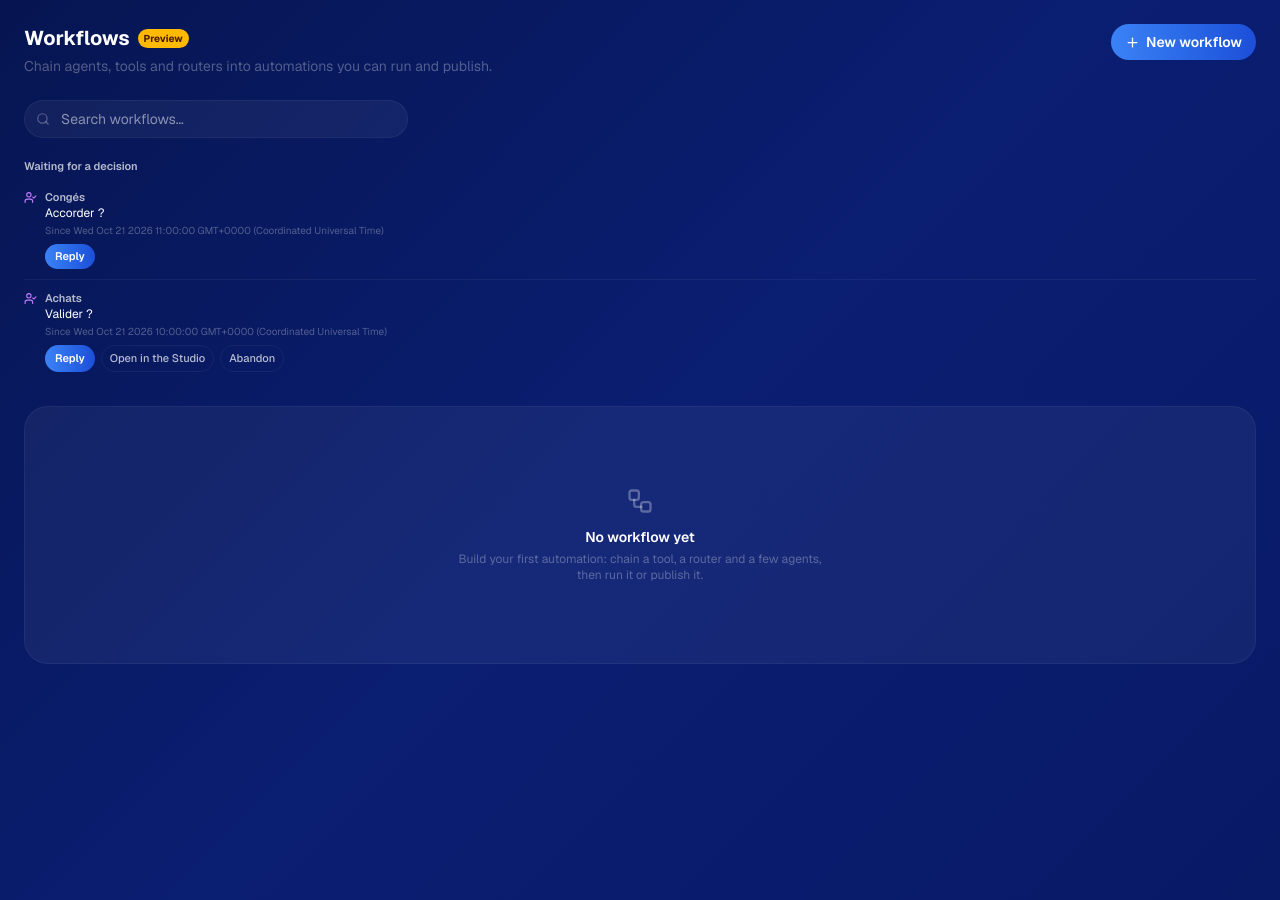
Test case: WorkflowsPage - answering a decision › words a failure of the rest of the run, and a cancellation
Click the button "Reply" below "Accorder ?". click: click(70, 256)
box: [45,244,95,268]
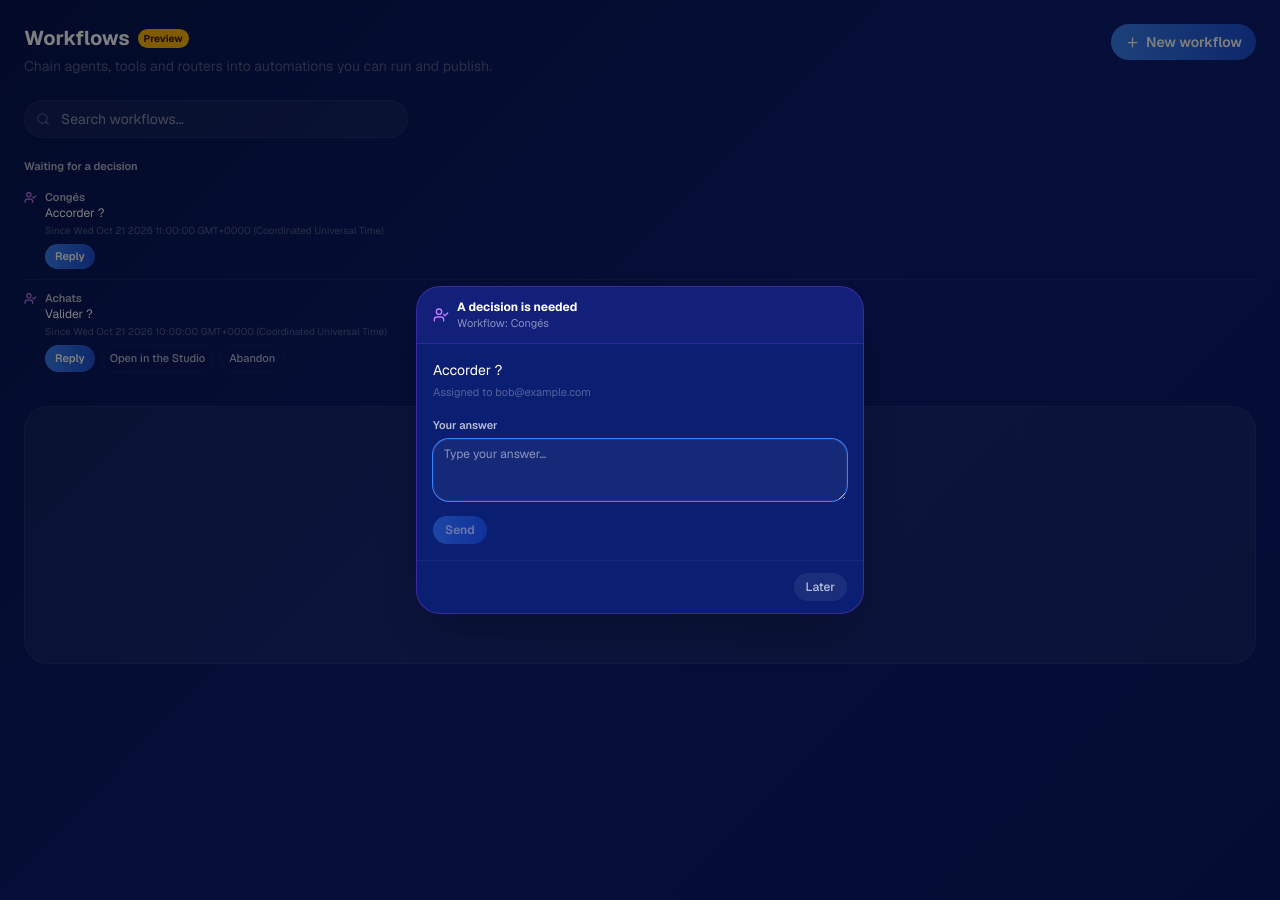
Type "x" into the text box. click: (640, 470)
box: [433,439,847,501]
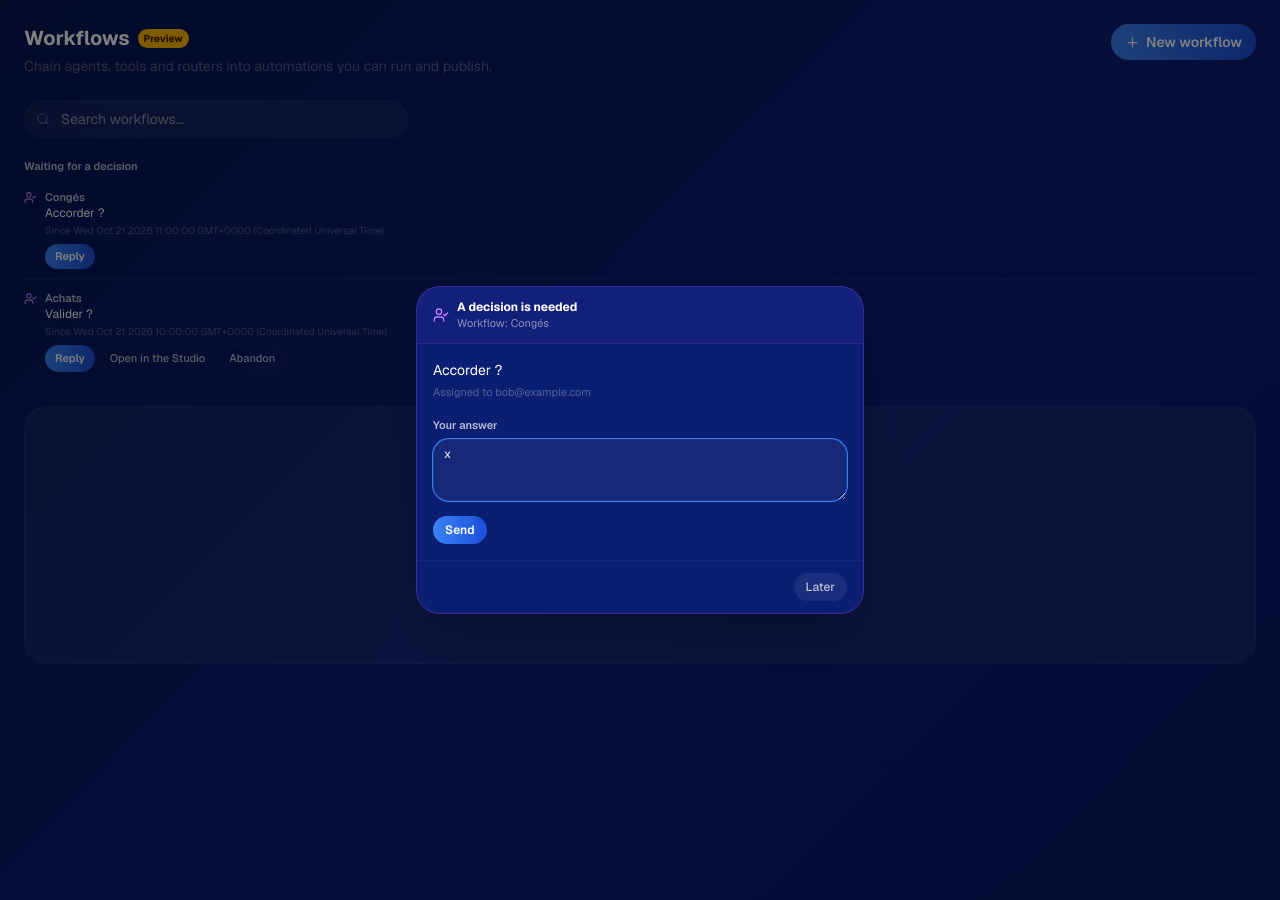
Click the button "Send". click: click(460, 530)
box: [433,516,487,544]
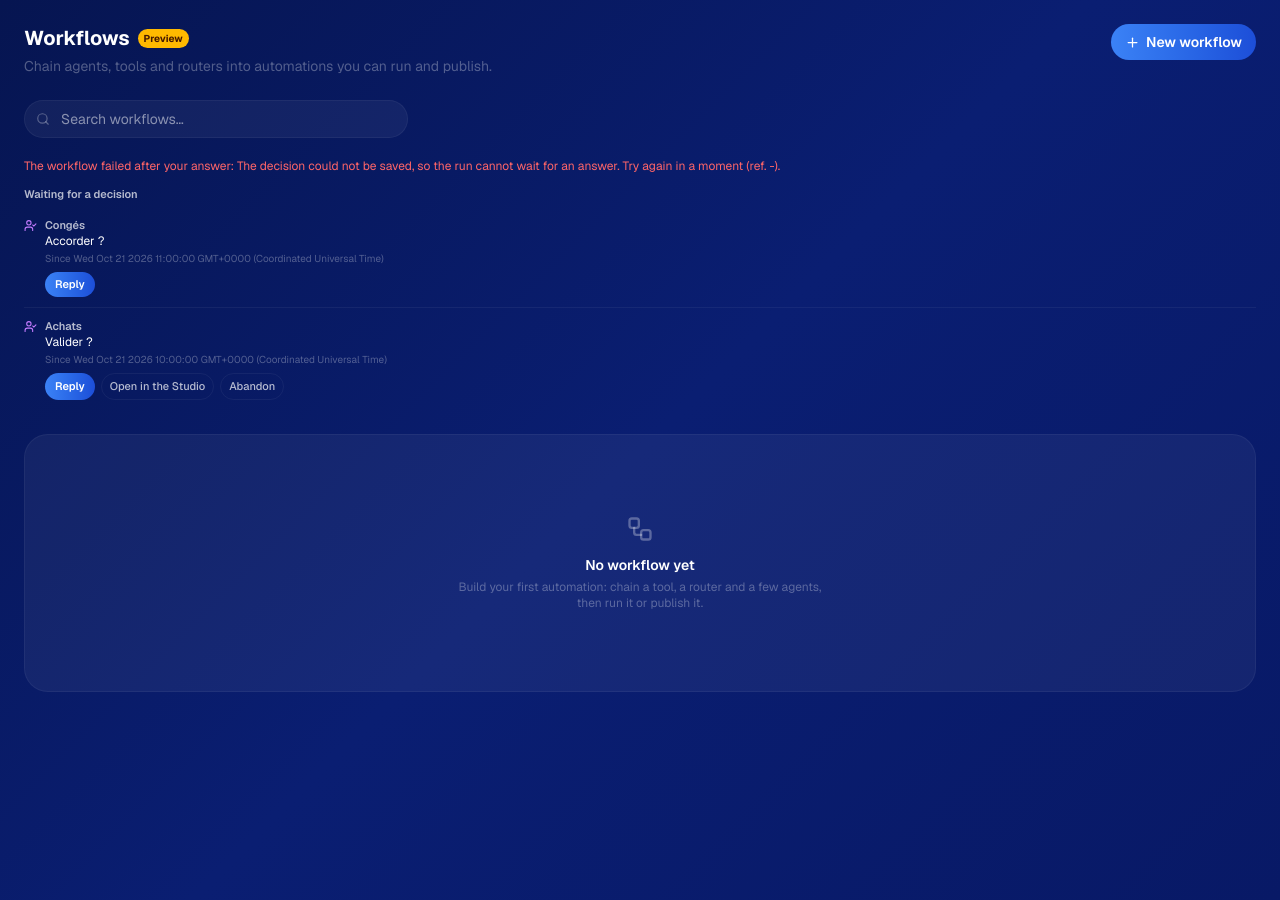
Click the button "Reply" below "Accorder ?". click: click(70, 284)
box: [45,272,95,296]
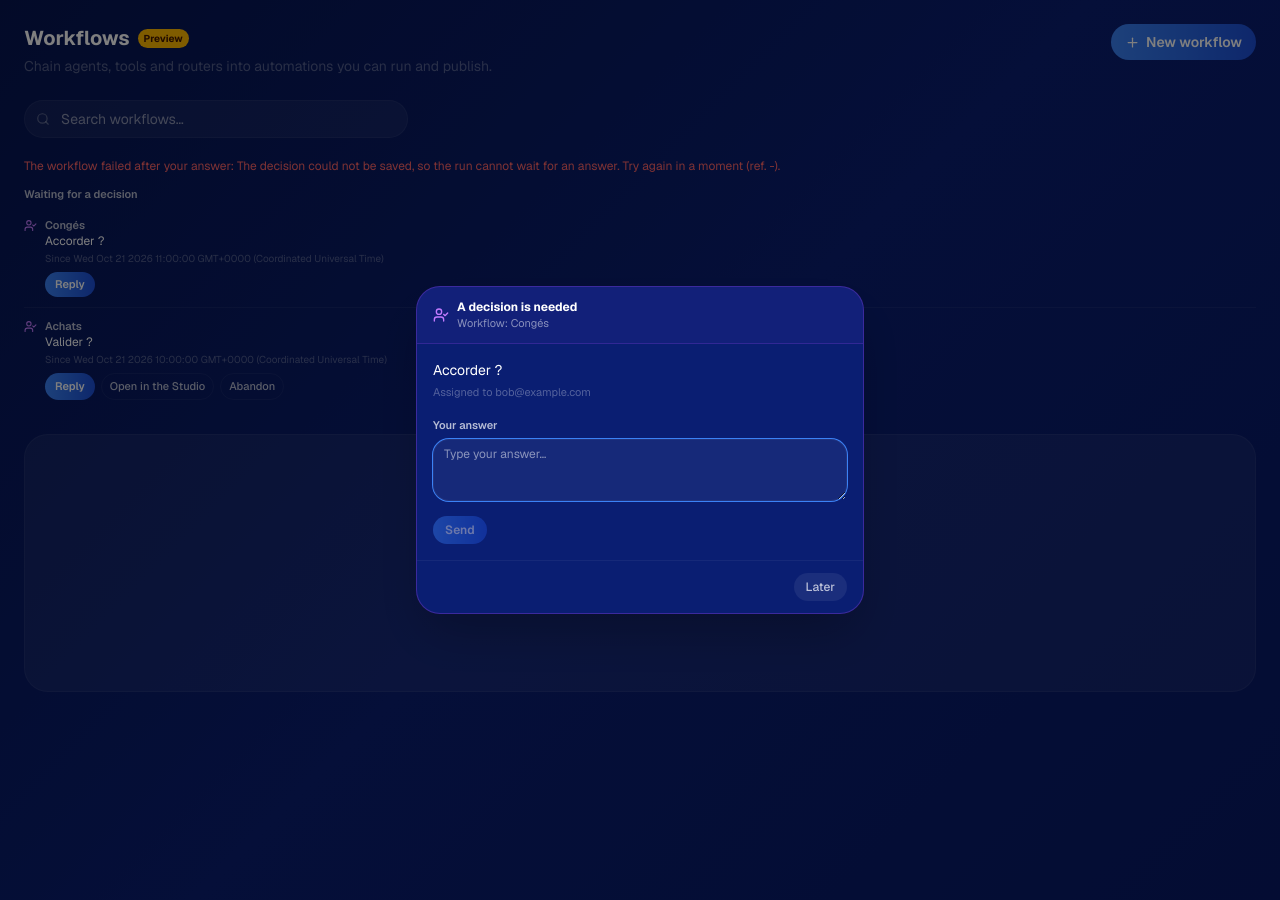
Type "y" into the text box. click: (640, 470)
box: [433,439,847,501]
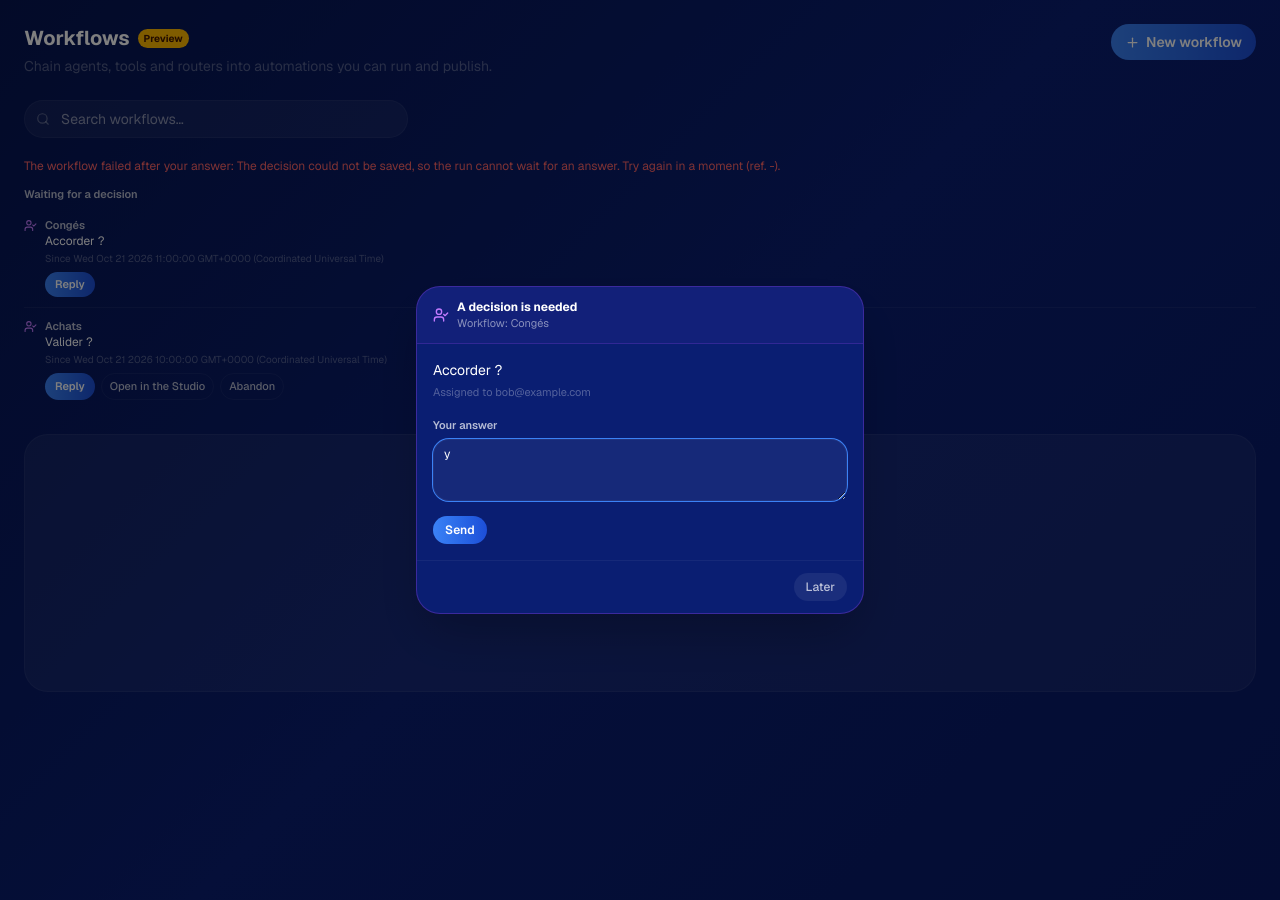
Click the button "Send". click: click(460, 530)
box: [433,516,487,544]
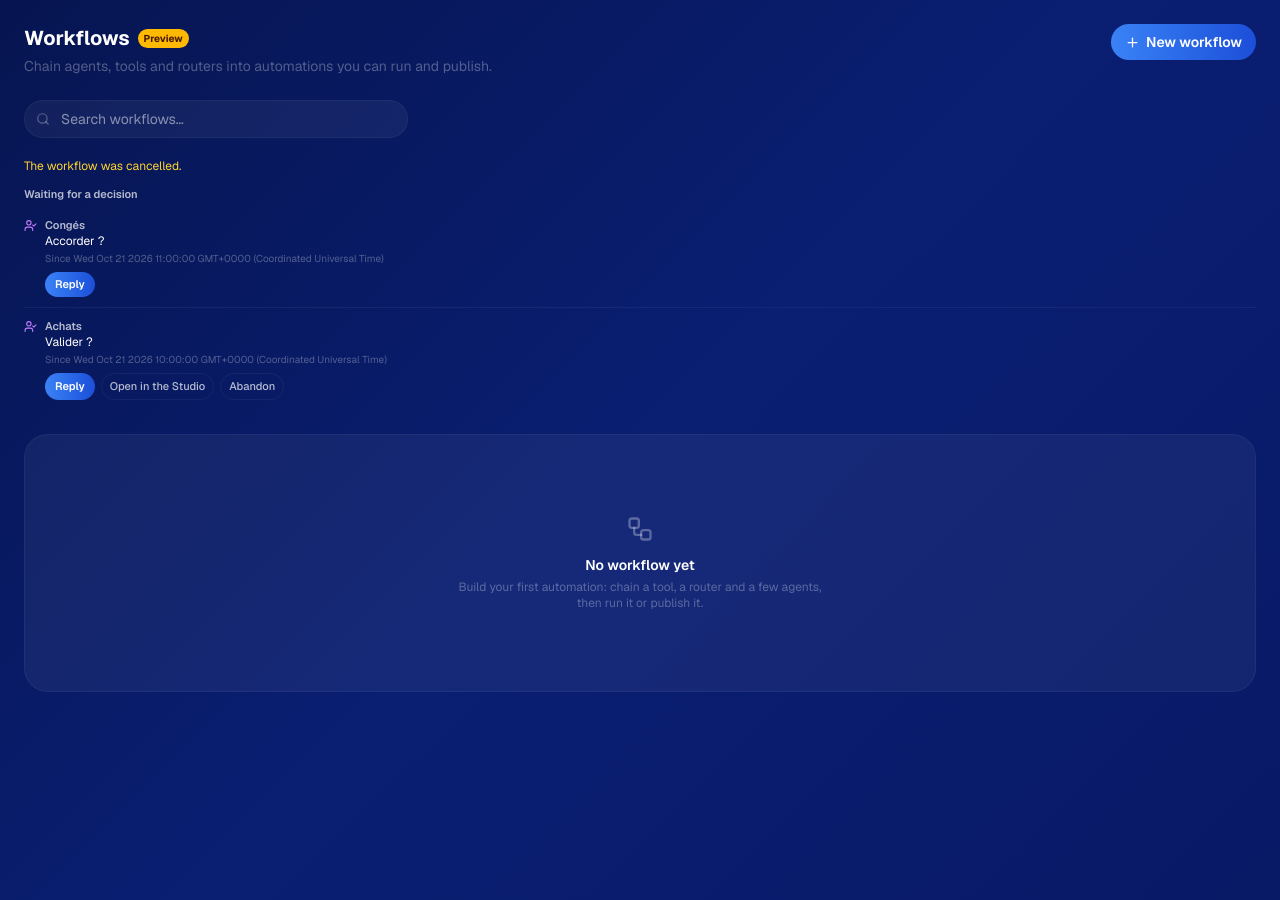
Check: the text "The workflow was cancelled." is shown, box [24,158,182,174]
